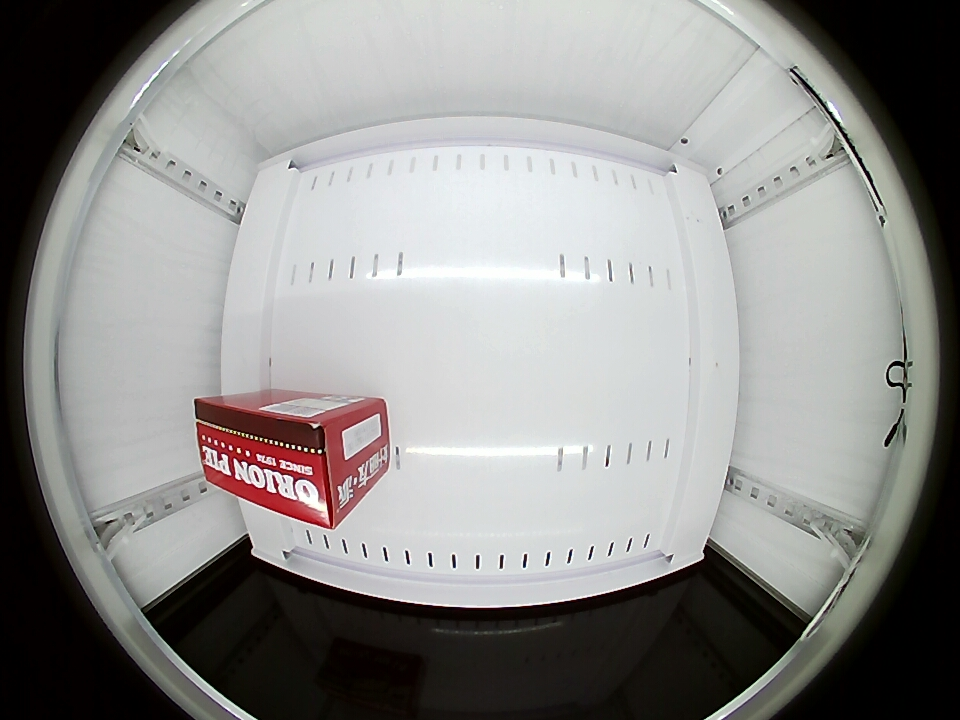haoliyou: (193, 396, 365, 529)
